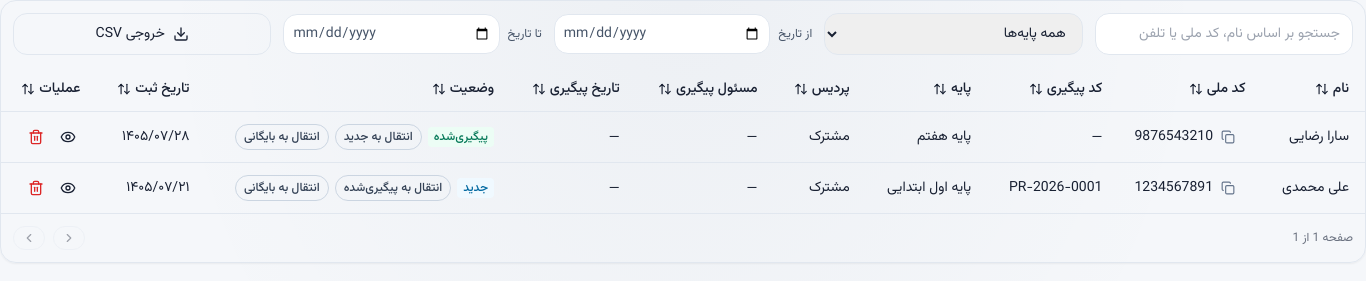
PreRegistrationList › filters by Persian-digit national ID search
This screenshot has width=1366, height=281.
Type "۱۲۳۴۵۶۷۸۹۱" into the field named "جستجوی پیش‌ثبت‌نام".
click(1224, 34); type("۱۲۳۴۵۶۷۸۹۱")  # box [1095,13,1353,55]
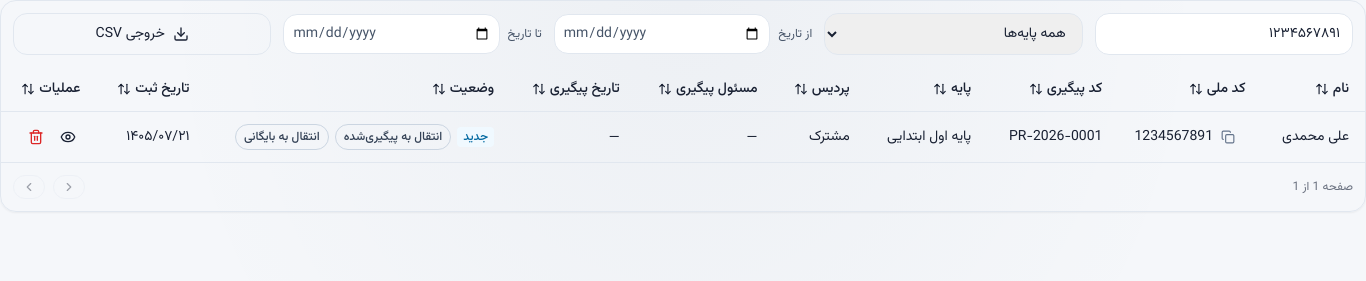
Expected: the text "علی محمدی" is shown, [1261,112,1365,162]
Now the text "سارا رضایی" is gone
